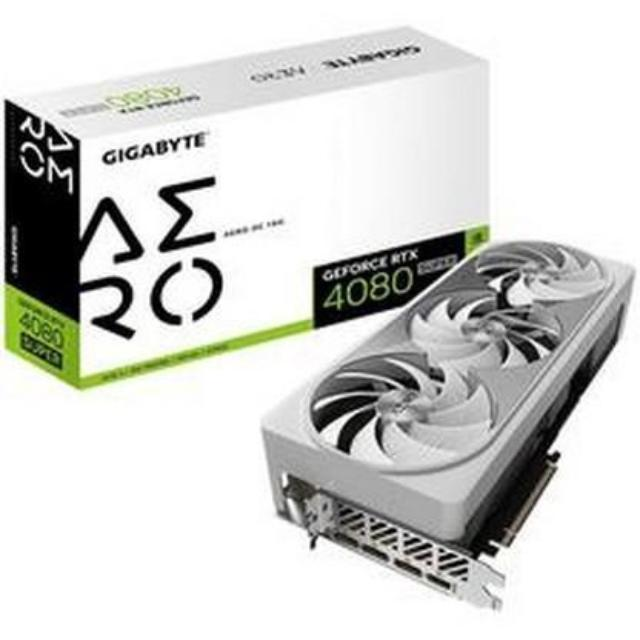GPU: (262, 224, 640, 582)
